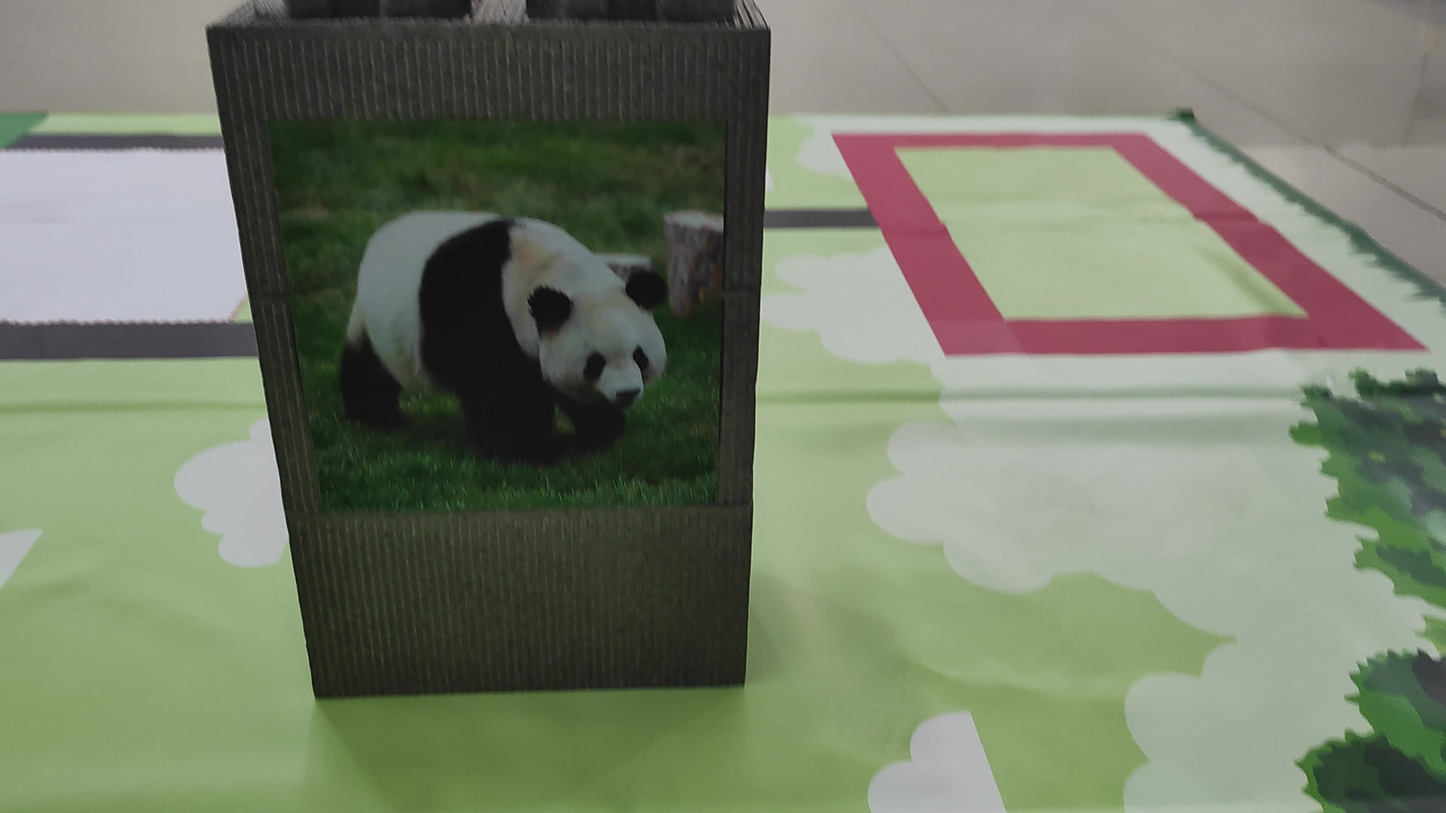panda: (324, 192, 690, 498)
